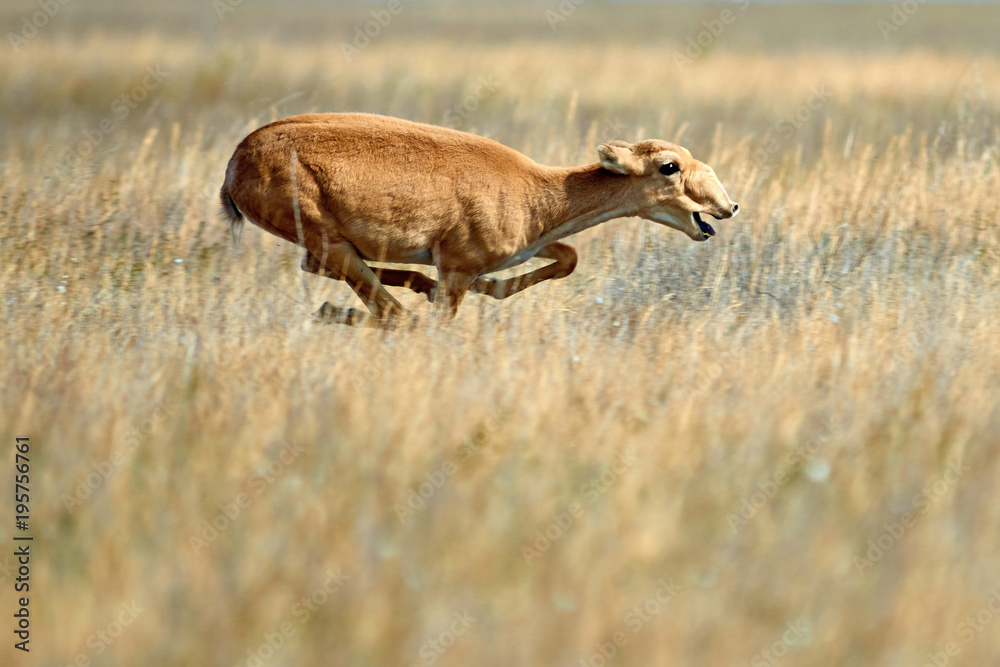saiga: (225, 101, 761, 361)
